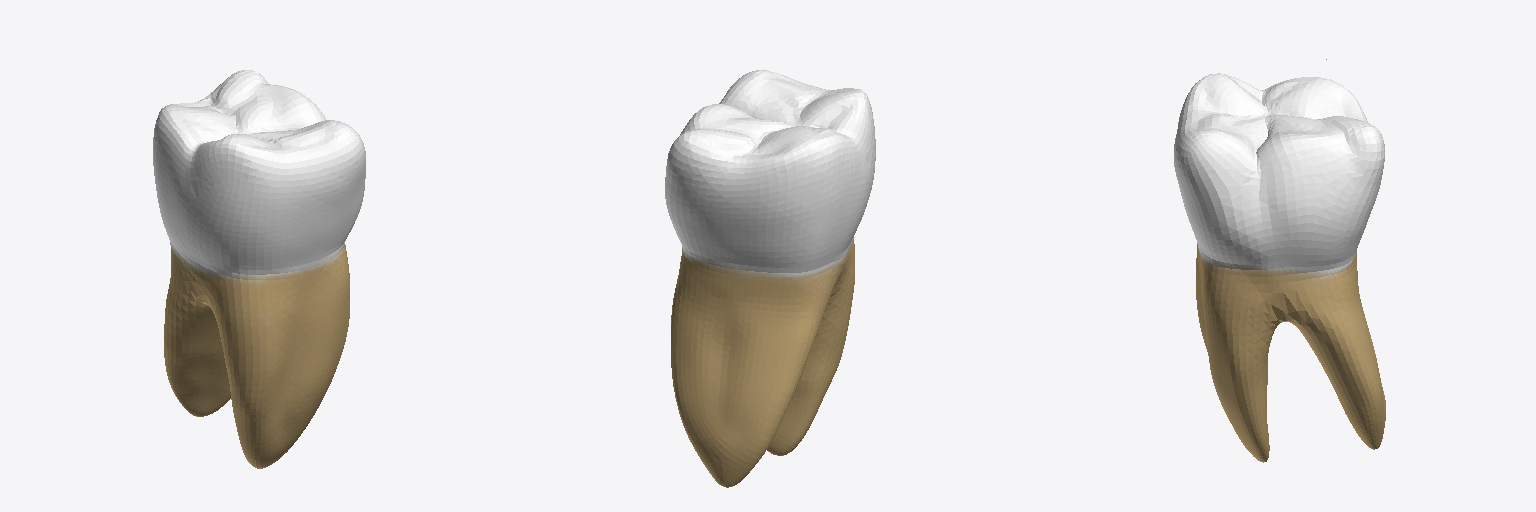
3 renders of one model, left to right at view 1: azimuth 30°, elevation 25°; view 2: azimuth 150°, elevation 25°; view 3: azimuth 270°, elevation 25°, orthographic.
Visible parts, largest first — view 1: outer; view 2: outer; view 3: outer.
Part boxes in pixels (left/top/right/bottom): outer: left=153, top=70, right=365, bottom=468; outer: left=665, top=70, right=875, bottom=487; outer: left=1174, top=73, right=1385, bottom=462.
Size of the model in its own units: 4.25 by 9.86 by 4.63.
Materials: 2 (1 with a texture image).